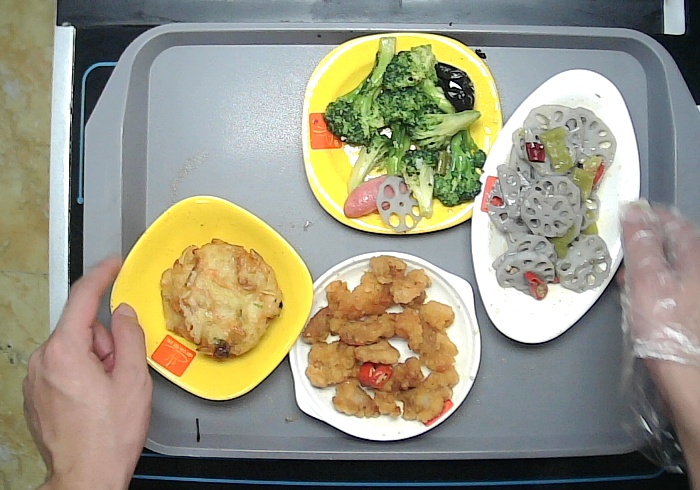SHKJ-Bao_Yu_Pan: (283, 249, 484, 445)
SHKJ-Huang_Se_Cai_Die: (107, 191, 318, 405)
SHKJ-Huang_Se_Si_Fang_Cai_Die: (298, 30, 508, 239)
SHKJ-Yu_Pan: (468, 65, 644, 346)
